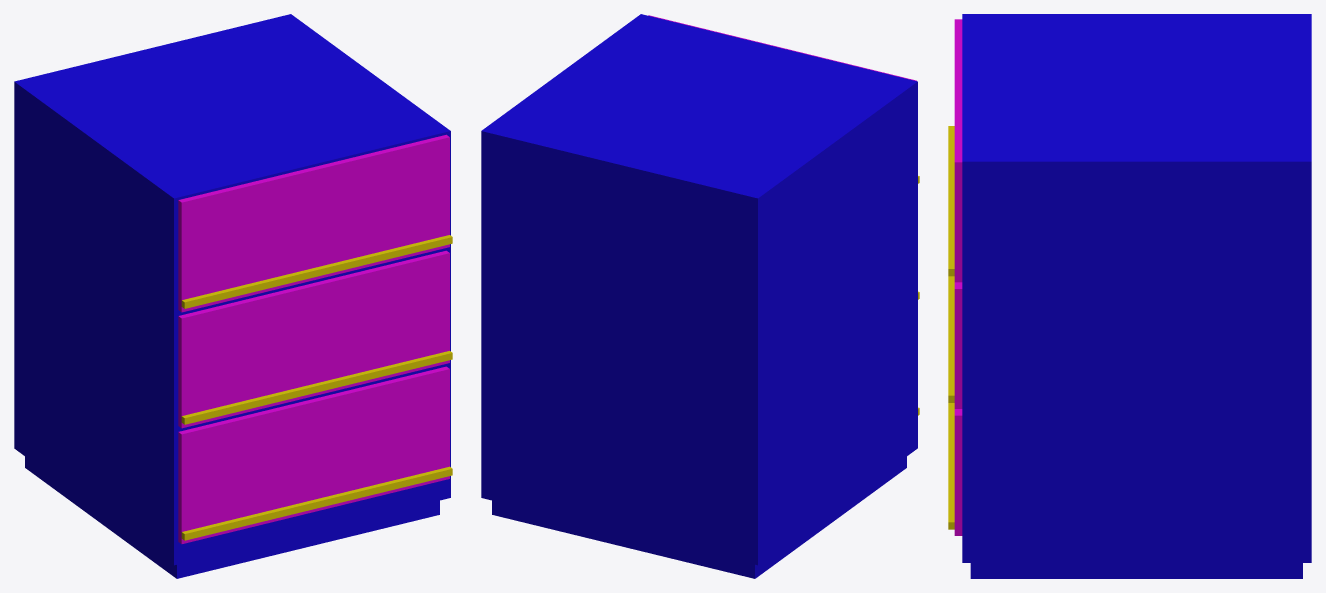
File: тумбочка.fbx
3 renders of one model, left to right at view 1: azimuth 30°, elevation 25°; view 2: azimuth 150°, elevation 25°; view 3: azimuth 270°, elevation 25°, orthographic. The views are drawn at different scales.
Visible parts, largest first — view 1: Cube.003; view 2: Cube.003; view 3: Cube.003.
Part boxes in pixels (<box>): Cube.003: <box>14,14,452,578</box>; Cube.003: <box>481,14,919,578</box>; Cube.003: <box>948,14,1311,578</box>.
Bounding box in the file's own units: 2 × 2.66 × 2.08.
